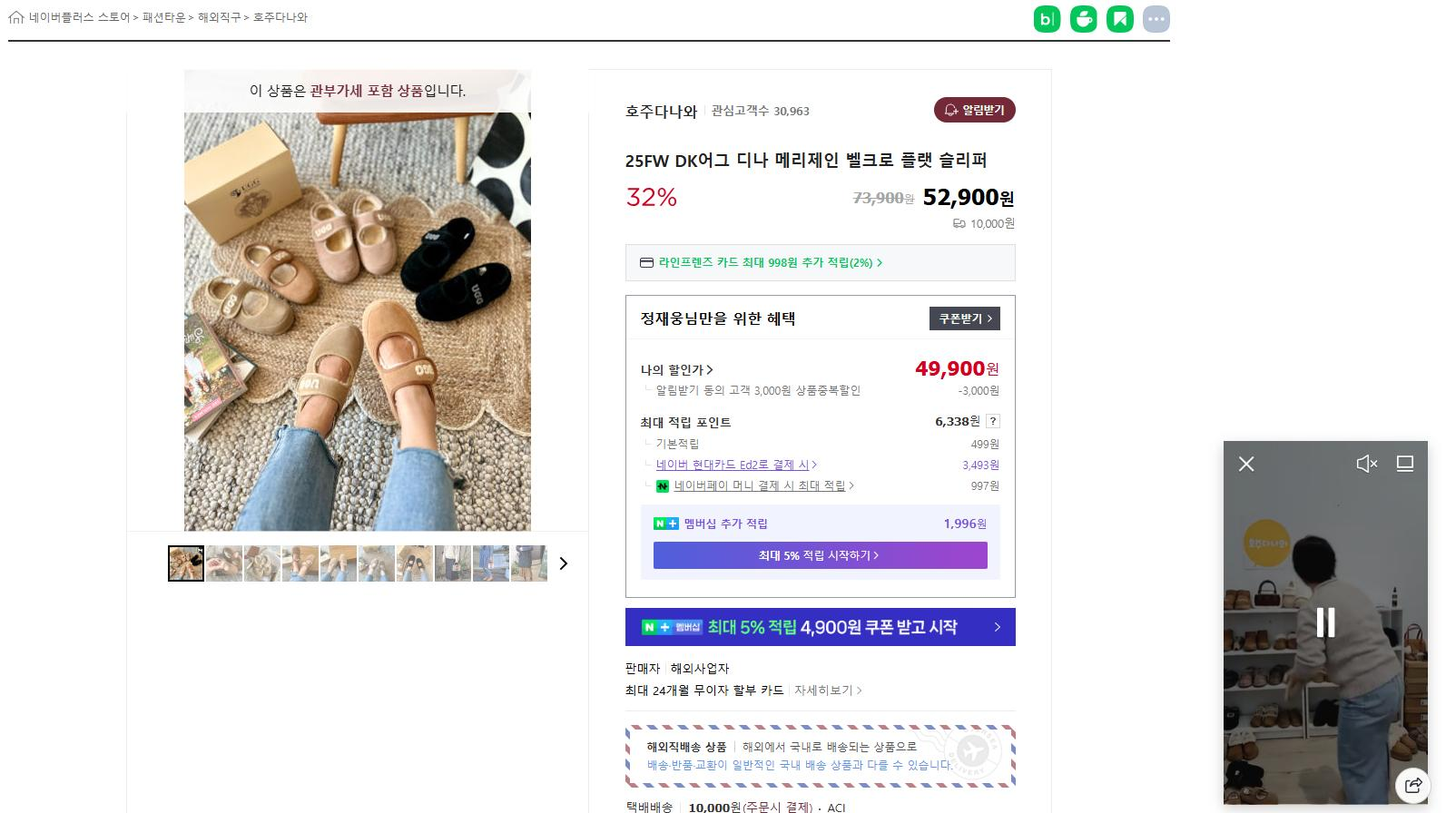button: (626, 243, 1011, 286), (657, 540, 995, 573), (932, 98, 1024, 127), (307, 538, 343, 582), (793, 679, 867, 699), (274, 547, 313, 584), (392, 544, 431, 581), (469, 544, 508, 581), (349, 546, 389, 582), (437, 543, 477, 579), (165, 546, 204, 582), (203, 546, 242, 582), (507, 546, 546, 582), (938, 307, 1005, 327), (236, 547, 275, 576), (1393, 773, 1433, 800), (1026, 9, 1059, 38), (1239, 455, 1278, 478), (1399, 443, 1424, 475), (1147, 14, 1180, 36), (1318, 615, 1340, 646), (1107, 5, 1132, 32), (1064, 9, 1089, 35), (1365, 457, 1387, 473)
popup: (1213, 440, 1434, 808), (622, 599, 1023, 652)
